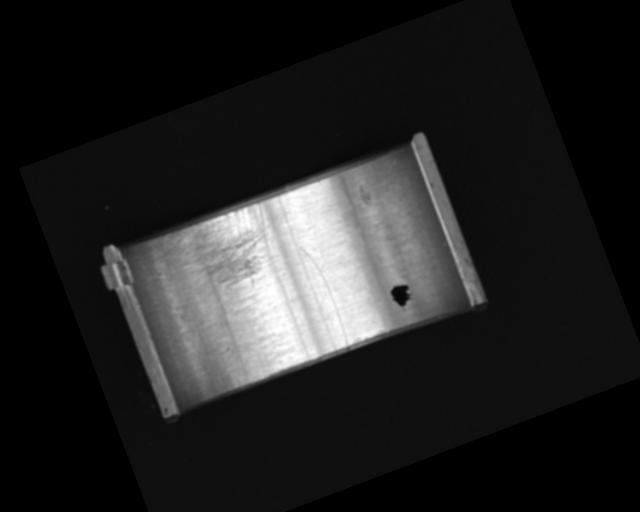blot: (387, 280, 417, 314)
bruise: (354, 181, 375, 207)
nick: (297, 240, 352, 352)
scratch: (162, 196, 289, 310)
